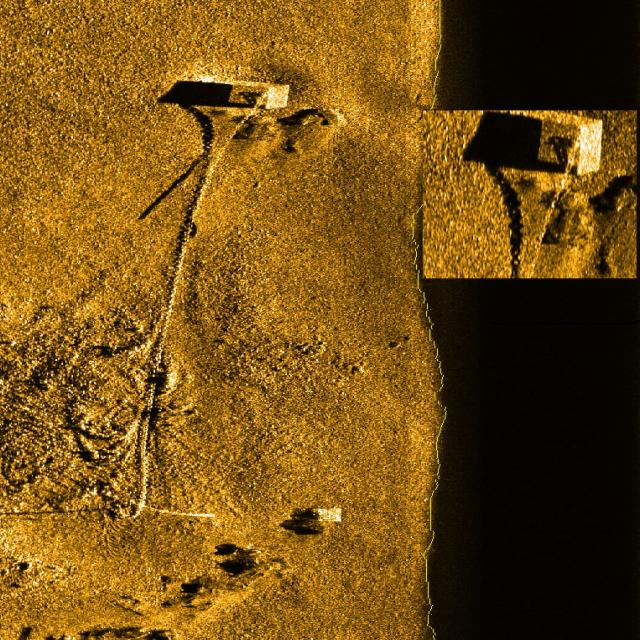other: (114, 152, 224, 533), (166, 63, 352, 140), (518, 106, 622, 188), (289, 493, 370, 539)
